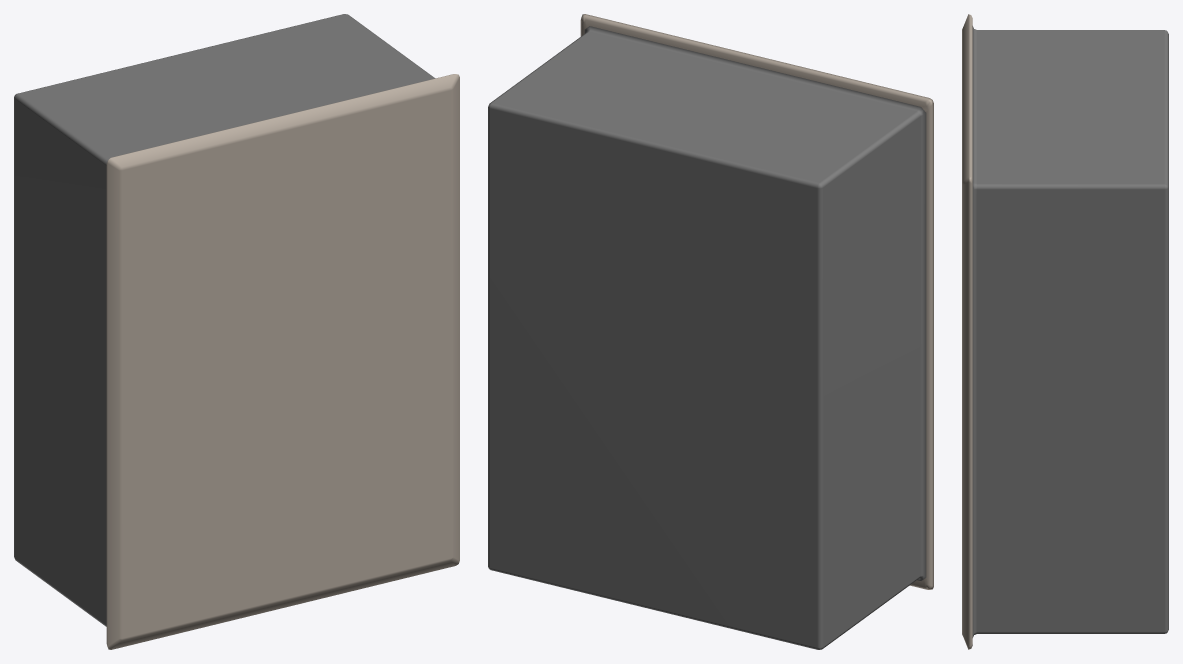
Rendered from outlet.fbx.
The picture shows the model from 3 angles, left to right: view 1: azimuth 30°, elevation 25°; view 2: azimuth 150°, elevation 25°; view 3: azimuth 270°, elevation 25°; orthographic projection. The views are drawn at different scales.
Parts seen in each view (by area): view 1: outlet_high:outlet; view 2: outlet_high:outlet; view 3: outlet_high:outlet.
Part boxes in pixels (x1,y1,x2,y2): outlet_high:outlet: (14,14,459,649); outlet_high:outlet: (488,14,933,649); outlet_high:outlet: (962,14,1168,649).
Size of the model in its own units: 15 by 20 by 7.91.
